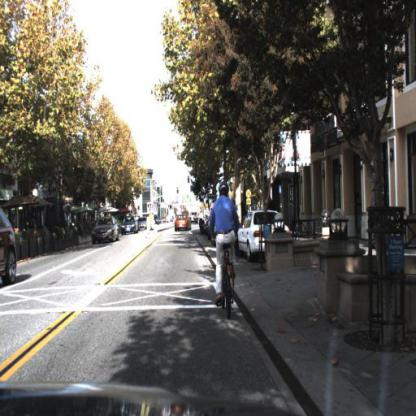biker: (212, 180, 240, 313)
car: (238, 208, 291, 258), (91, 215, 120, 249), (93, 218, 119, 247), (172, 210, 193, 235), (121, 211, 138, 236), (139, 218, 149, 234), (190, 211, 200, 226)
pedestrian: (1, 206, 25, 291)
